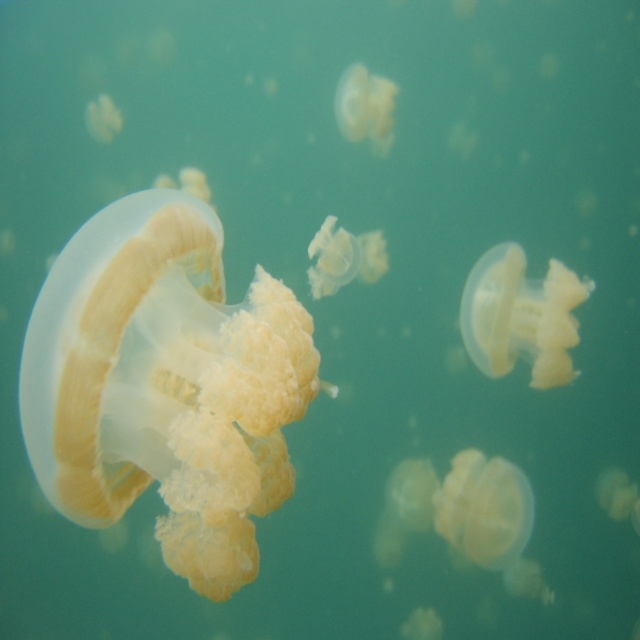Jellyfish: (17, 185, 340, 605), (453, 236, 596, 397), (433, 443, 536, 573), (327, 59, 397, 150), (304, 213, 362, 287), (83, 91, 124, 146)
